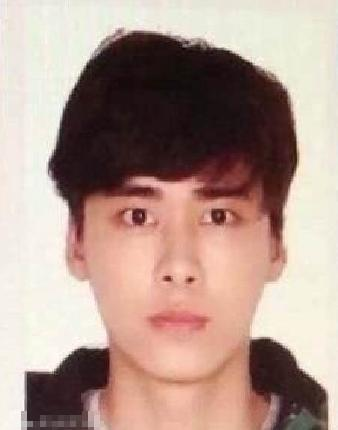unmask: (82, 169, 274, 378)
